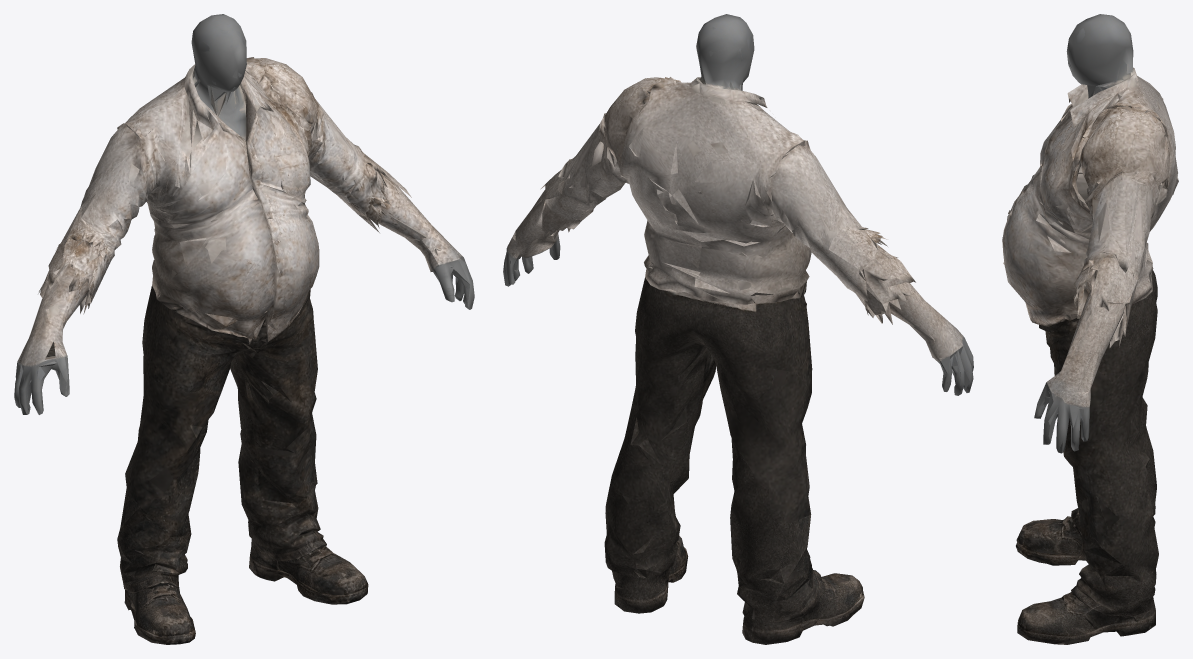
Rendered from source.glb.
The picture shows the model from 3 angles, left to right: view 1: azimuth 30°, elevation 25°; view 2: azimuth 150°, elevation 25°; view 3: azimuth 270°, elevation 25°; orthographic projection. The views are drawn at different scales.
Parts seen in each view (by area): view 1: Mesh_0; view 2: Mesh_0; view 3: Mesh_0.
Boxes of the visible parts, x1,y1,x2,y2 form: Mesh_0: [14, 14, 474, 644]; Mesh_0: [503, 14, 973, 644]; Mesh_0: [1002, 14, 1178, 644].
Size of the model in its own units: 1.47 by 1.8 by 0.5022.
1 material, 1 textured.
